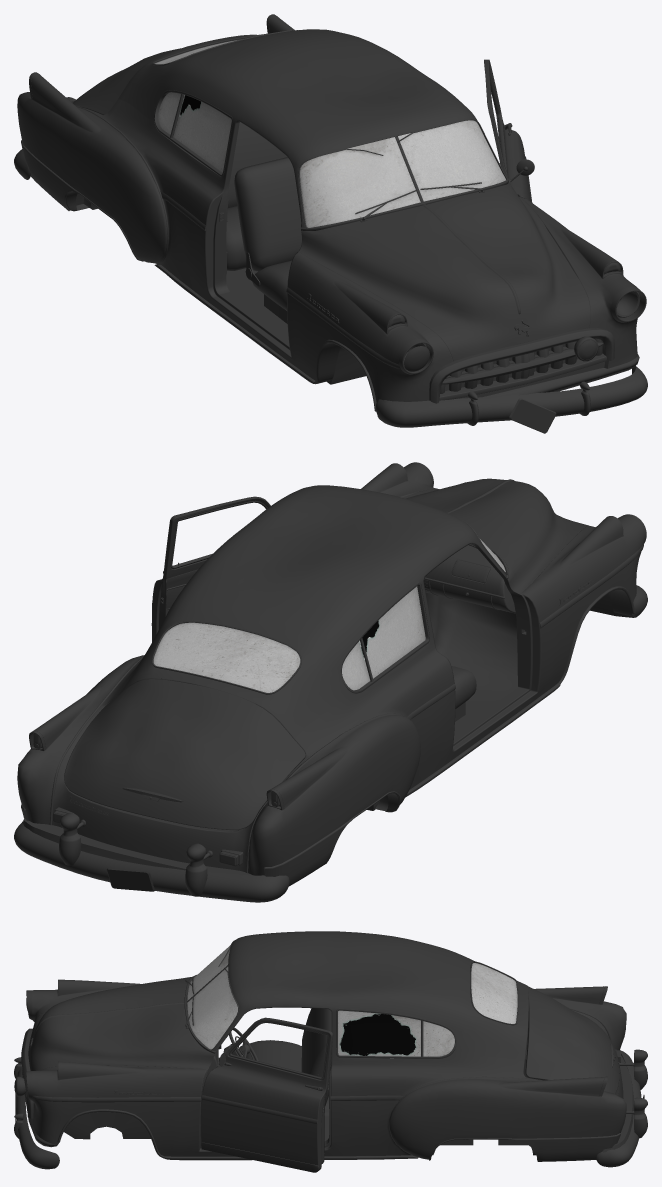
Rendered from SM_Abandoned_Car.FBX.
The picture shows the model from 3 angles, top to bottom: view 1: azimuth 30°, elevation 25°; view 2: azimuth 150°, elevation 25°; view 3: azimuth 270°, elevation 25°; orthographic projection. The views are drawn at different scales.
Parts seen in each view (by area): view 1: SM_Abandoned_Car_LOD0; view 2: SM_Abandoned_Car_LOD0; view 3: SM_Abandoned_Car_LOD0.
Boxes of the visible parts, <box> form: SM_Abandoned_Car_LOD0: <box>14,14,647,433</box>; SM_Abandoned_Car_LOD0: <box>14,462,647,902</box>; SM_Abandoned_Car_LOD0: <box>14,931,647,1172</box>.
Size of what is drawn, in the model's own units: 229 by 496 by 143.
